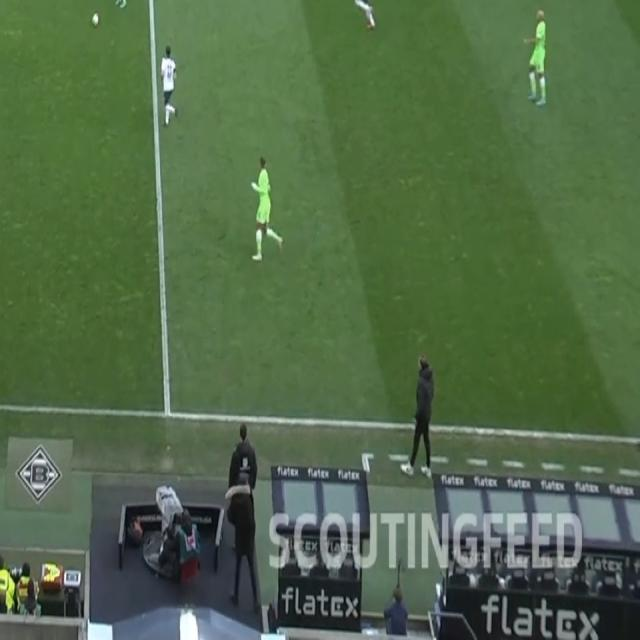ball: (92, 11, 100, 27)
